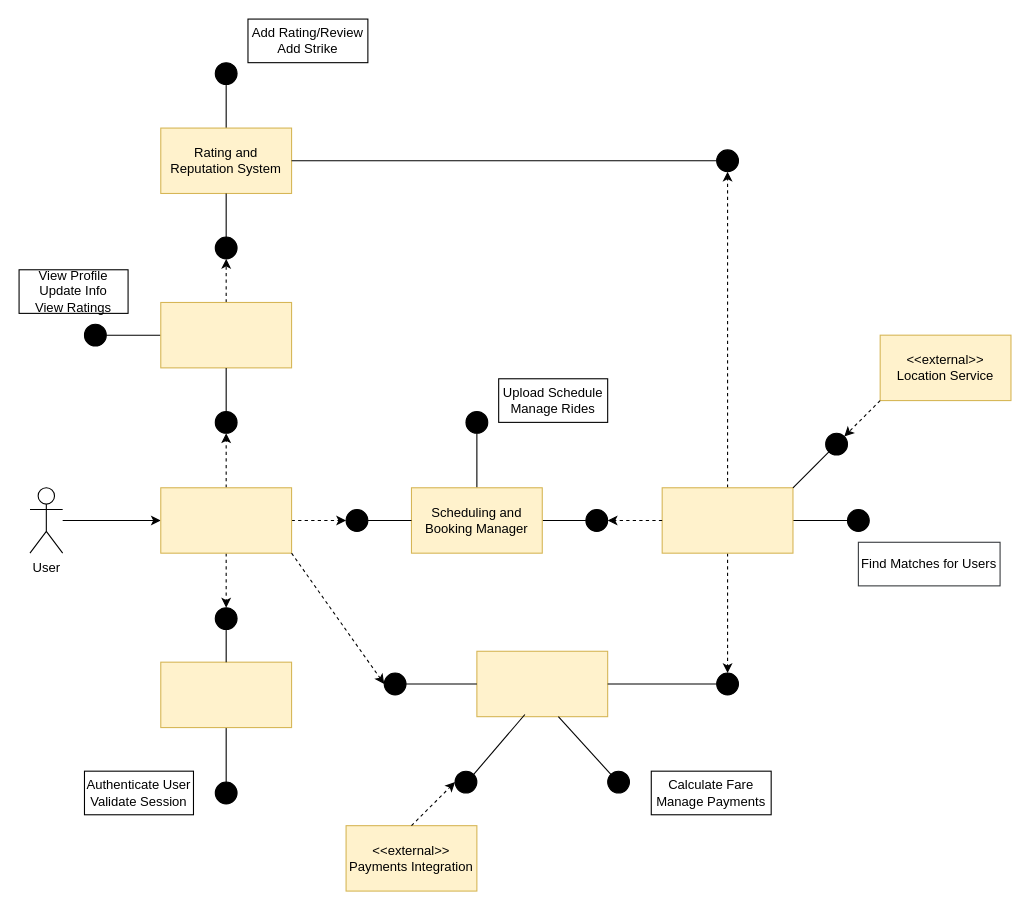
Some shapes in this 1030 by 910 pixel diagram are drawn without their labels. Each missing label, with the box of its shape:
Client App: (160, 487, 292, 553)
Matchmaking Engine: (661, 487, 793, 553)
Payment and Cost Sharing System: (476, 650, 608, 717)
Safety and Verification Module: (160, 661, 292, 728)
User Profile Manager: (160, 301, 292, 368)
